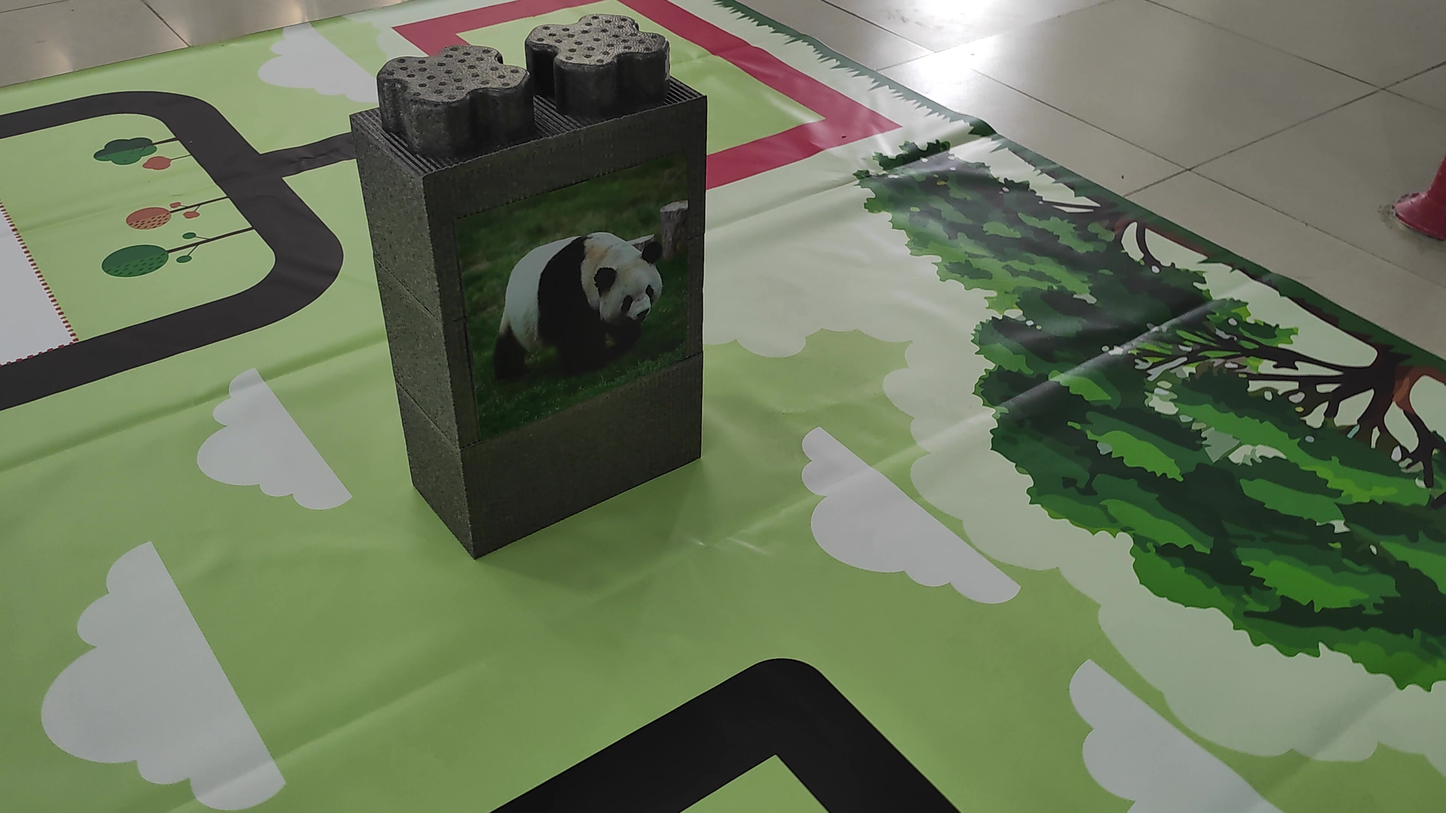panda: (494, 199, 689, 407)
